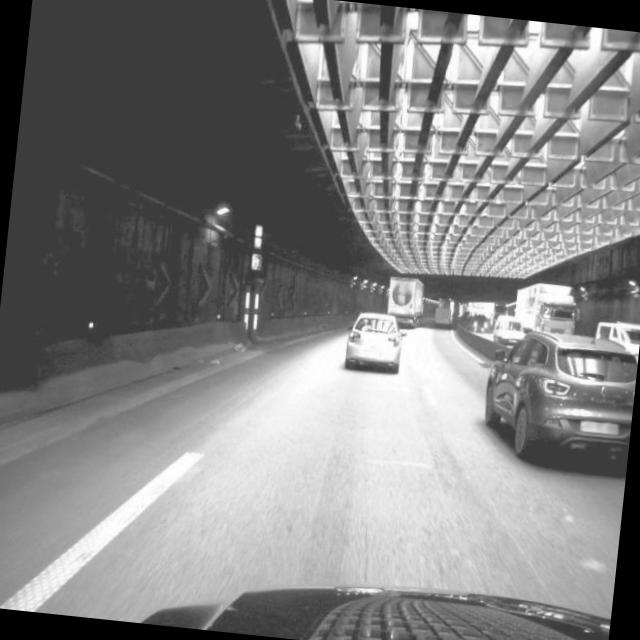Truck: (512, 280, 583, 342), (385, 276, 427, 330)
